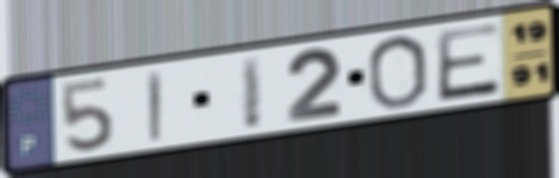2: (285, 45, 347, 126)
5: (58, 74, 117, 155)
E: (433, 19, 503, 104)
I: (237, 52, 266, 134), (145, 67, 167, 145)
O: (364, 32, 430, 112)
